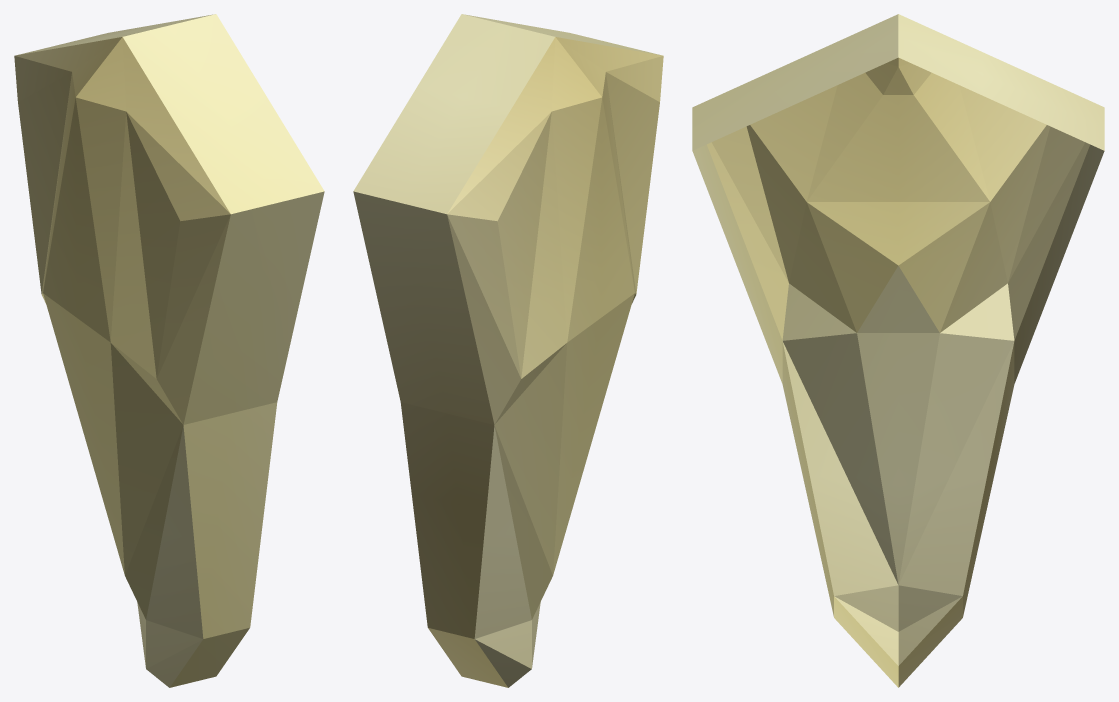
Rendered from Wall Lamp Fancy.fbx.
3 renders of one model, left to right at view 1: azimuth 30°, elevation 25°; view 2: azimuth 150°, elevation 25°; view 3: azimuth 270°, elevation 25°, orthographic. The views are drawn at different scales.
Parts seen in each view (by area): view 1: housing, light; view 2: housing, light; view 3: housing.
Boxes of the visible parts, x1=… form: housing: x1=14, y1=14, x2=324, y2=687; light: x1=18, y1=37, x2=183, y2=619; housing: x1=353, y1=14, x2=663, y2=687; light: x1=494, y1=37, x2=659, y2=619; housing: x1=692, y1=14, x2=1104, y2=687.
Size of the model in its own units: 30 by 135 by 80.
Materials: 1 (1 with a texture image).
